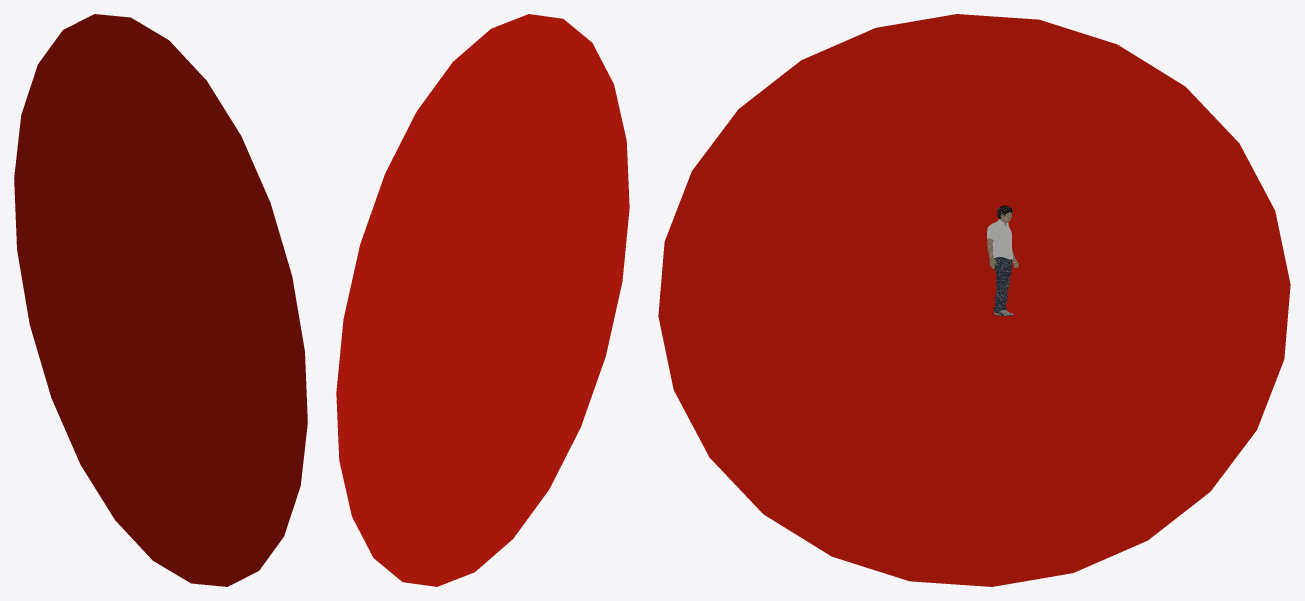
The model's file is improCircle2.dae.
3 renders of one model, left to right at view 1: azimuth 30°, elevation 25°; view 2: azimuth 150°, elevation 25°; view 3: azimuth 270°, elevation 25°, orthographic. The views are drawn at different scales.
Parts seen in each view (by area): view 1: SketchUp; view 2: SketchUp; view 3: SketchUp.
Boxes of the visible parts, x1=… form: SketchUp: x1=14, y1=14, x2=307, y2=586; SketchUp: x1=336, y1=14, x2=629, y2=586; SketchUp: x1=658, y1=14, x2=1290, y2=586.
Size of the model in its own units: 21.27 by 358 by 358.
